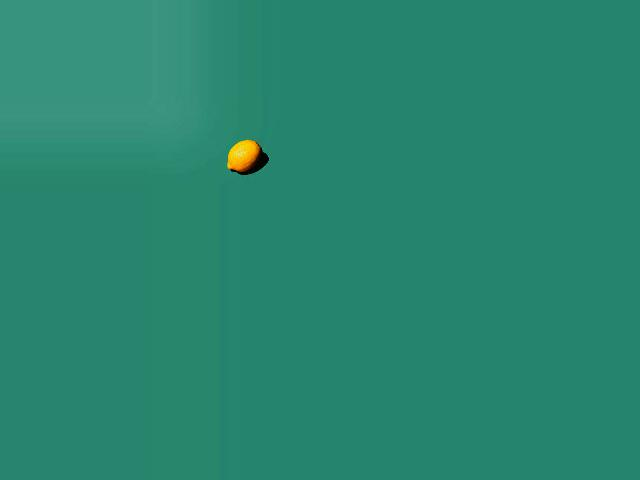lemon: (224, 140, 271, 177)
